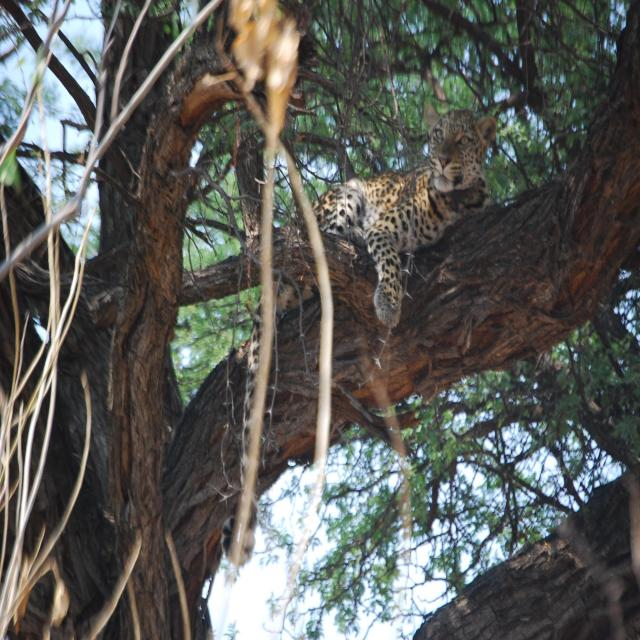Leopard: (214, 95, 504, 589)
